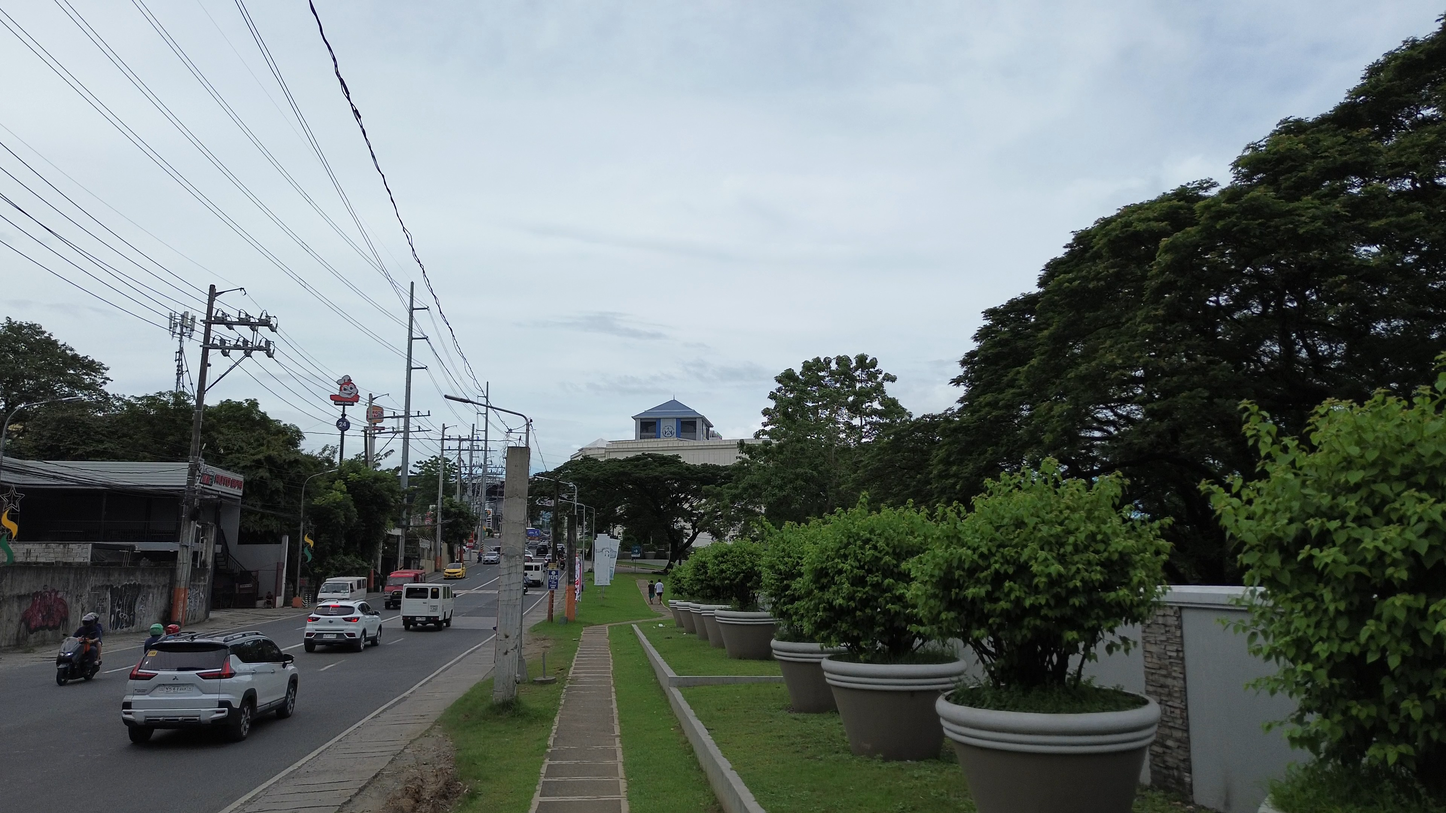car: (482, 551, 500, 564)
motorcycle: (56, 637, 101, 685)
vehicle: (122, 632, 298, 743), (304, 601, 382, 652), (401, 585, 454, 629), (383, 569, 425, 609), (316, 576, 367, 604), (523, 562, 543, 587), (444, 563, 466, 579), (482, 549, 501, 564)
